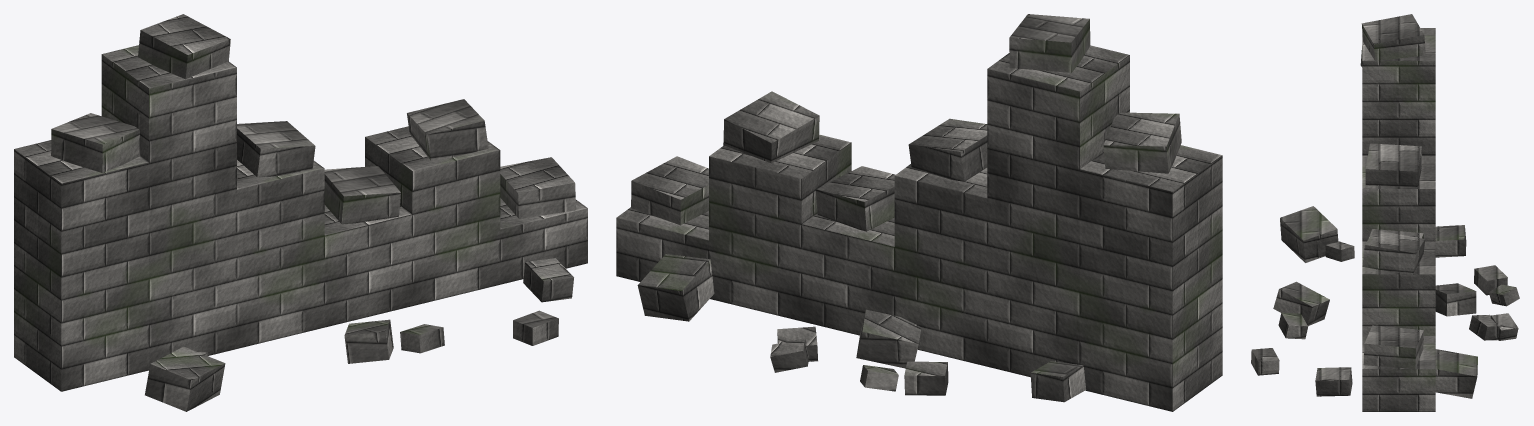
Rendered from ruin.obj.
3 views of the same model, side by side, from view 1: azimuth 30°, elevation 25°; view 2: azimuth 150°, elevation 25°; view 3: azimuth 270°, elevation 25° (orthographic). The views are drawn at different scales.
Bounding box in the file's own units: 9 × 5.21 × 5.14.
1 material, 1 textured.
